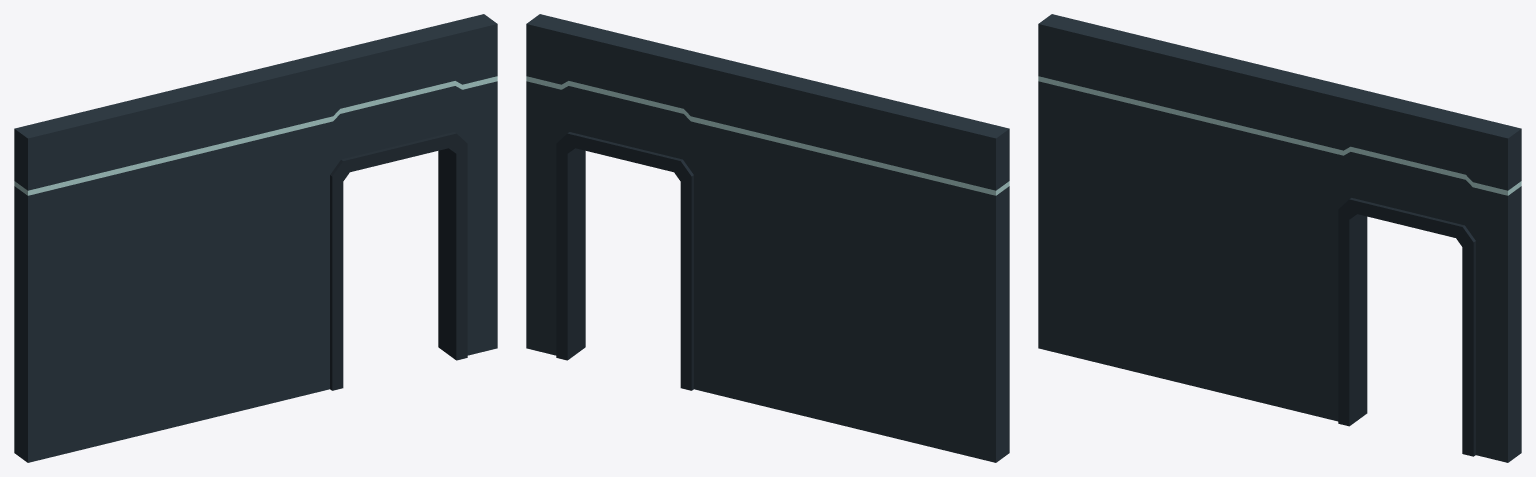
The model's file is SM_BuildingPart_29.fbx.
3 views of the same model, side by side, from view 1: azimuth 30°, elevation 25°; view 2: azimuth 150°, elevation 25°; view 3: azimuth 330°, elevation 25° (orthographic).
Visible parts, largest first — view 1: SM_BuildingPart_29; view 2: SM_BuildingPart_29; view 3: SM_BuildingPart_29.
Part boxes in pixels (x1,y1,x2,y2): SM_BuildingPart_29: (14,14,497,462); SM_BuildingPart_29: (526,14,1009,462); SM_BuildingPart_29: (1038,14,1521,462).
Bounding box in the file's own units: 500 × 330 × 33.14.
